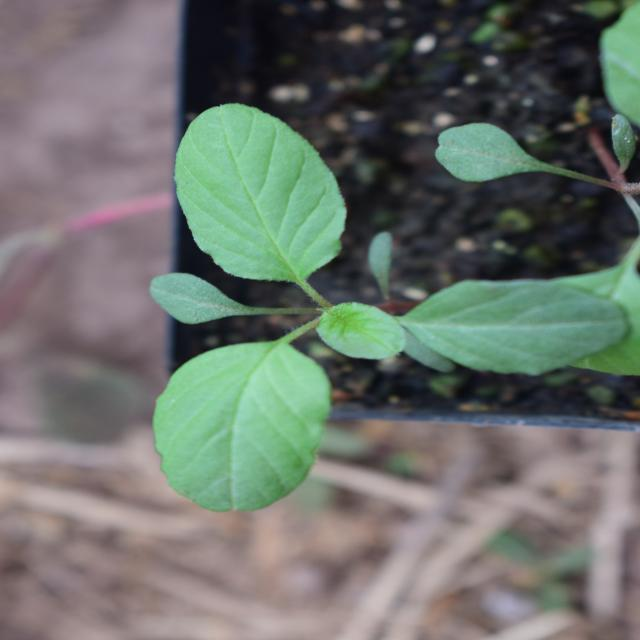pigweed: (146, 127, 523, 573)
